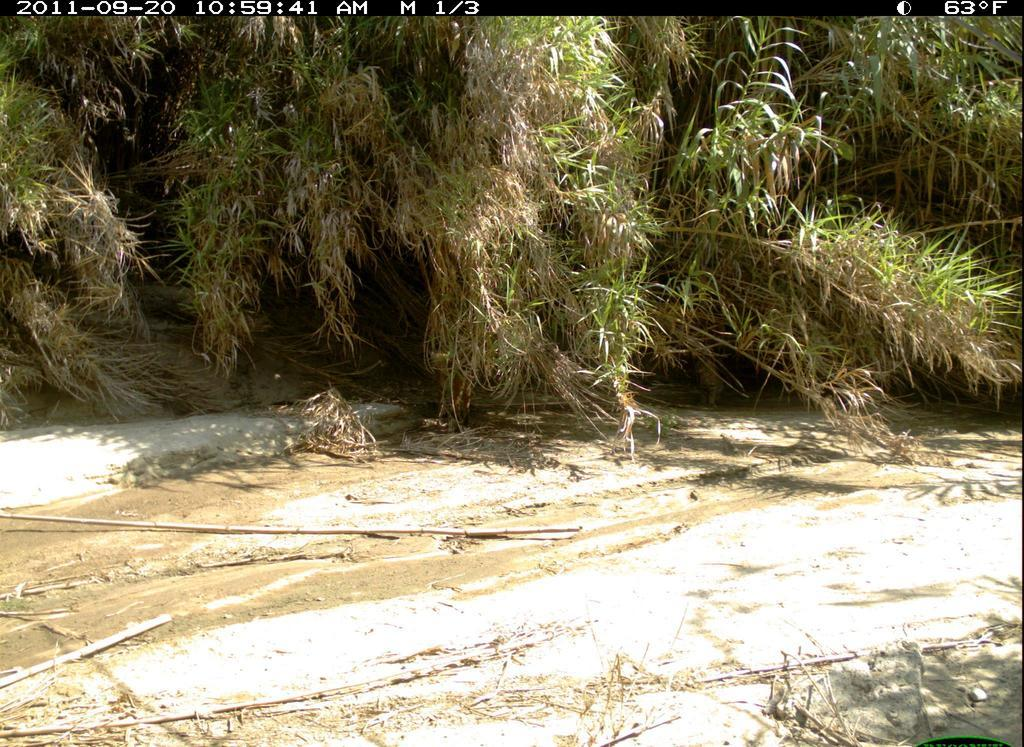bobcat: (430, 347, 479, 432)
